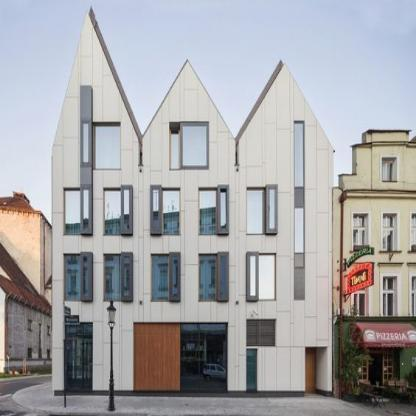Building Outline: (52, 7, 333, 396)
Door: (305, 347, 328, 396)
Facade: (52, 6, 334, 397)
Glass Wall: (181, 324, 229, 392), (65, 322, 93, 391)
Window: (95, 126, 121, 168), (182, 126, 207, 166), (199, 191, 216, 233), (200, 256, 216, 300), (163, 191, 179, 234), (105, 191, 121, 233), (247, 191, 263, 233), (152, 256, 167, 300), (106, 255, 121, 299), (65, 255, 80, 299), (259, 255, 274, 299), (65, 191, 80, 233), (295, 125, 303, 187), (295, 208, 303, 252), (171, 130, 179, 169), (172, 256, 178, 296), (124, 256, 129, 296), (84, 190, 89, 230), (84, 256, 89, 296), (124, 190, 129, 230), (221, 256, 226, 296), (154, 190, 159, 230), (270, 190, 275, 230), (250, 256, 255, 296), (221, 190, 226, 229), (84, 123, 89, 162)
